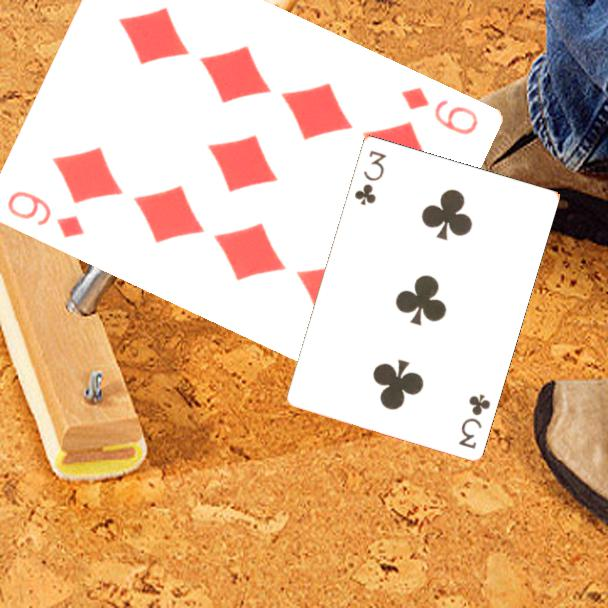c03: (351, 146, 389, 208), (455, 390, 493, 451)
d09: (397, 83, 481, 138), (3, 187, 87, 241)
